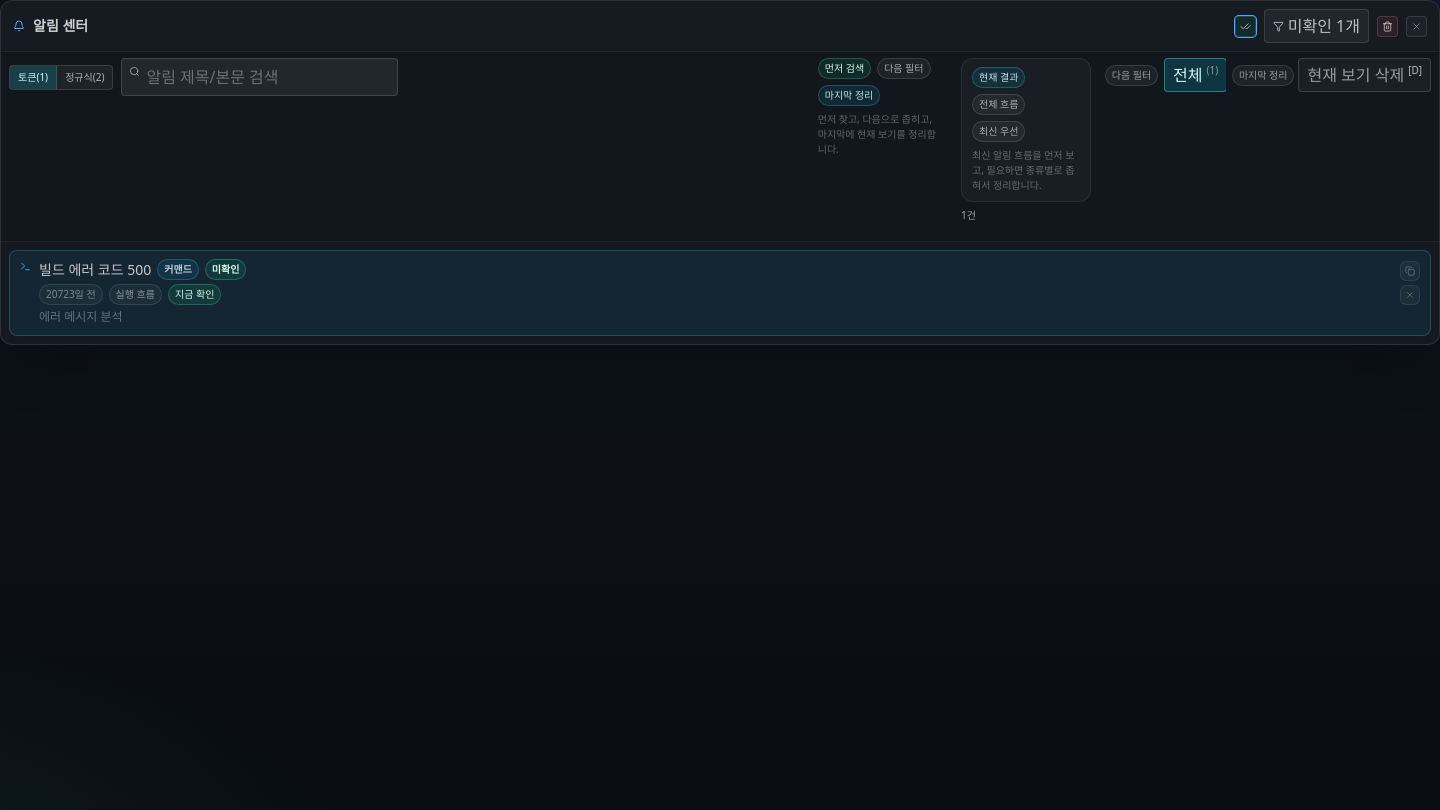
Scenario: NotificationCenter › 정규식 모드에서 입력 힌트를 노출한다
Expected: the text "정규식 예시:" is not shown
Click the button with aria-label "검색 모드: 정규식(2)" at (85, 77), box [57,66,112,88]
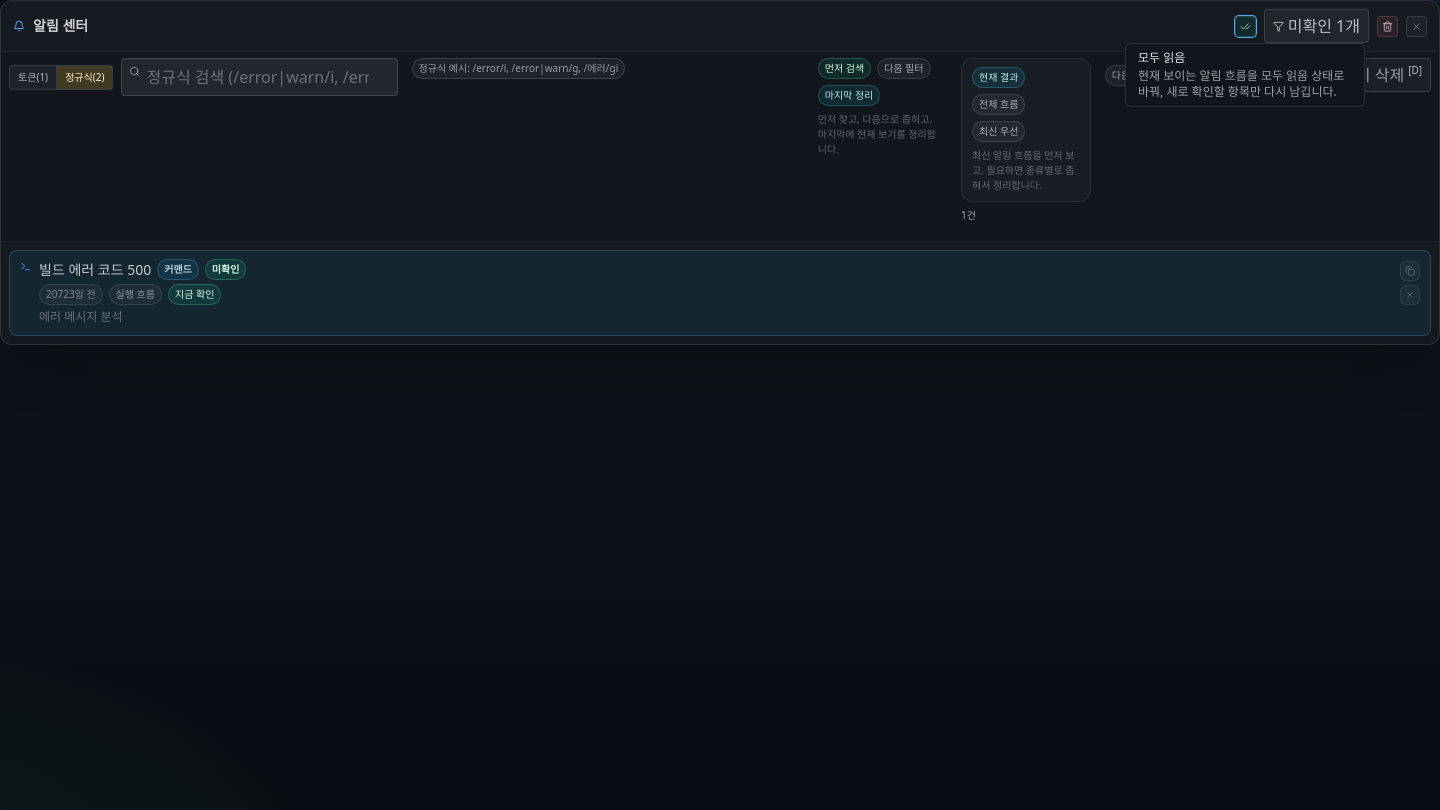
Expected: the text "정규식 예시: /error/i, /error|warn/g, /에러/gi" is shown, [412,58,625,79]
Expected: the field with placeholder "정규식 검색 (/error|warn/i, /error/gi)" is shown, [122,58,398,96]
